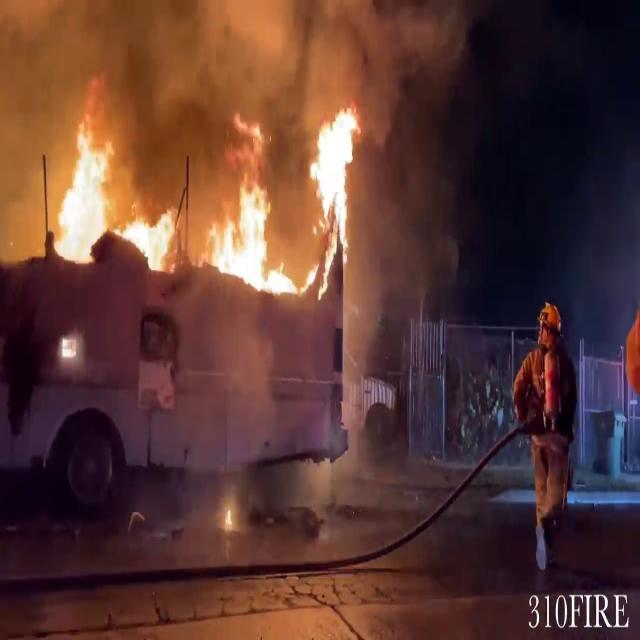Fire: (206, 99, 368, 302), (41, 123, 181, 281)
Smoke: (1, 0, 478, 148)
